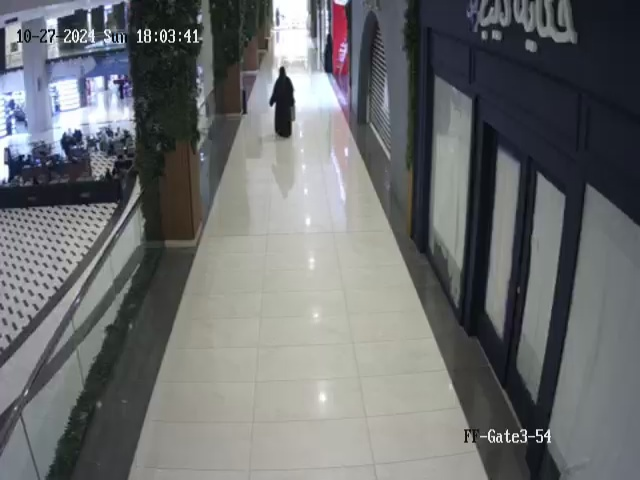female: (269, 66, 295, 138)
